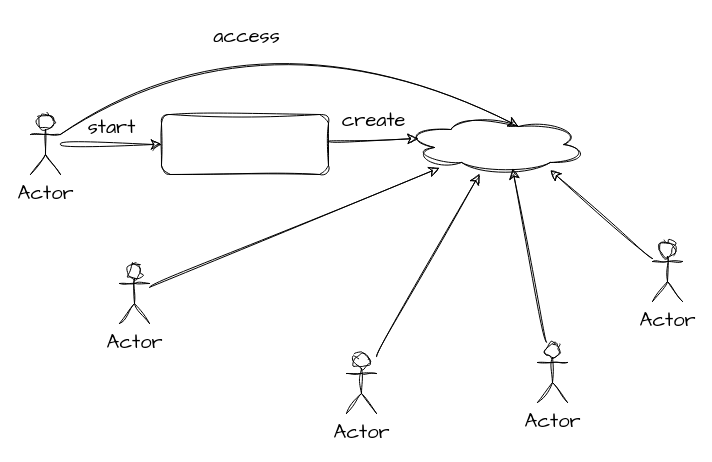
This 712x462 diagram has some shape labels left out. Here are the shapes that lost their labels. From the top down, the centre of each, then its label:
(x=244, y=144): 启动推理
(x=495, y=144): codeserver
